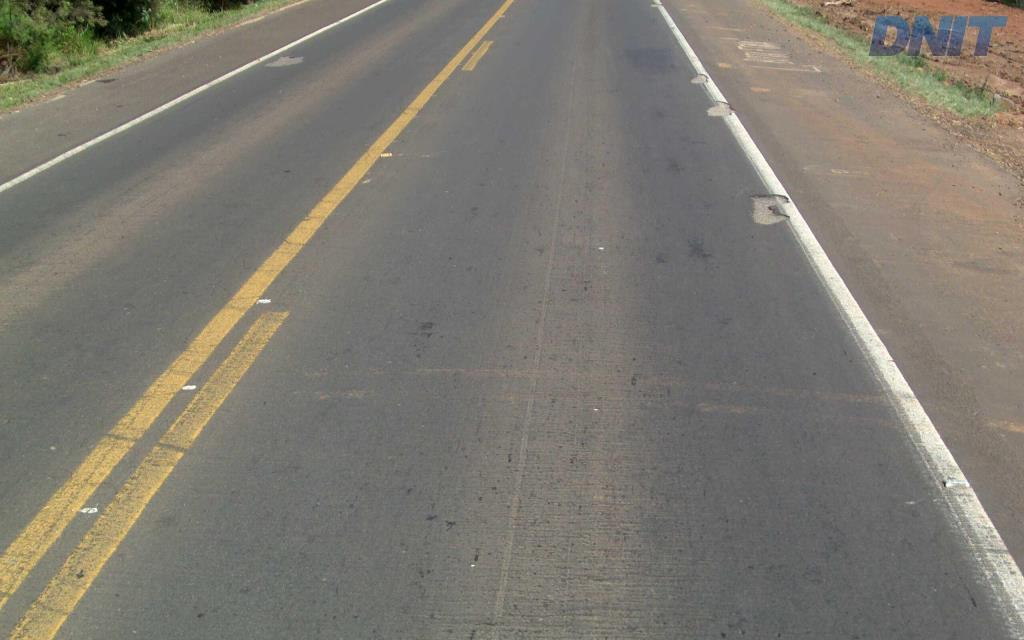pothole: (740, 188, 791, 228), (699, 96, 736, 121), (685, 67, 710, 87)
